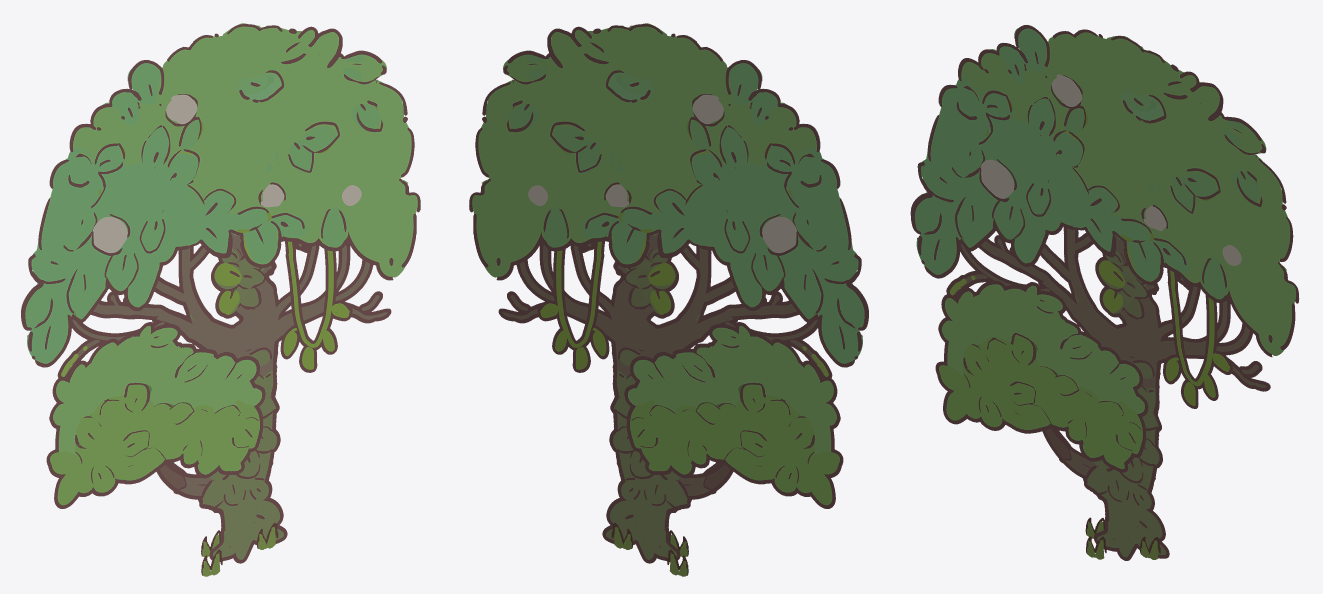
Rendered from Mesh_Home_RF_MiddleTree.fbx.
3 views of the same model, side by side, from view 1: azimuth 30°, elevation 25°; view 2: azimuth 150°, elevation 25°; view 3: azimuth 330°, elevation 25° (orthographic). The views are drawn at different scales.
Parts seen in each view (by area): view 1: Mesh_Home_RF_MiddleTree; view 2: Mesh_Home_RF_MiddleTree; view 3: Mesh_Home_RF_MiddleTree.
Boxes of the visible parts, x1,y1,x2,y2 form: Mesh_Home_RF_MiddleTree: (21, 23, 420, 576); Mesh_Home_RF_MiddleTree: (469, 23, 868, 576); Mesh_Home_RF_MiddleTree: (910, 25, 1299, 560).
Size of the model in its own units: 79.79 by 100 by 0.
